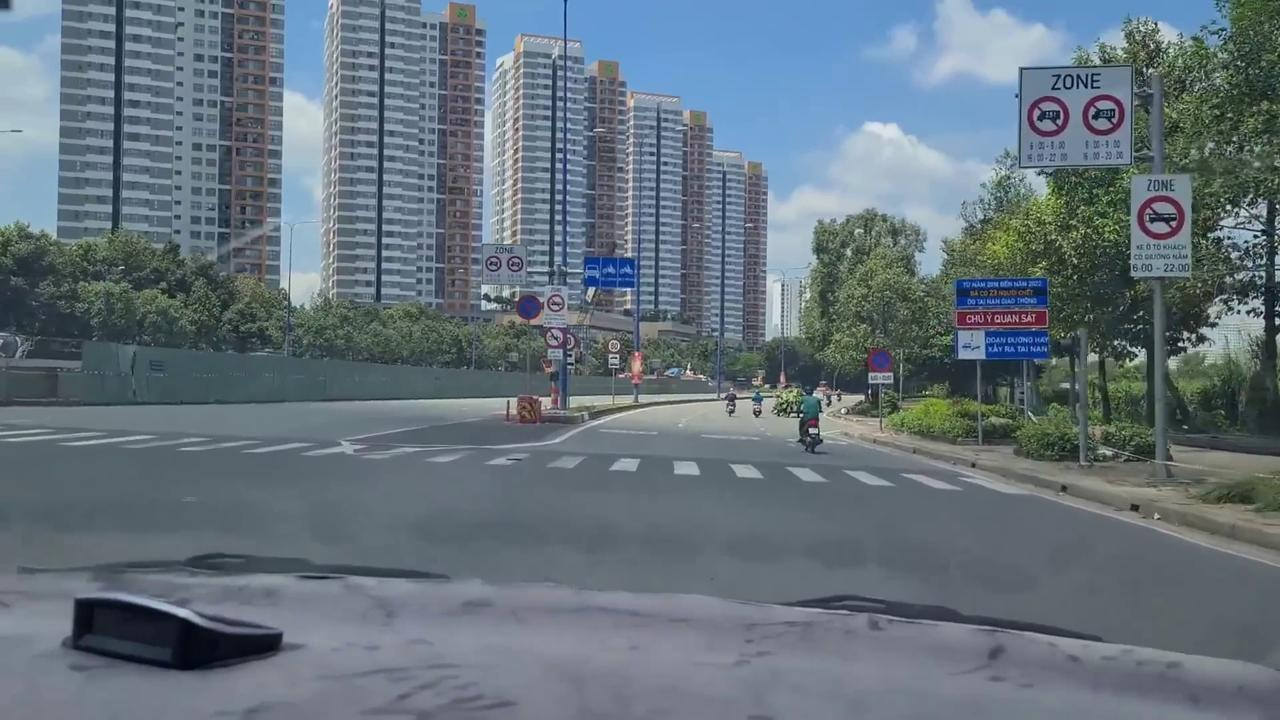Biển phụ: (869, 373, 894, 384), (608, 354, 620, 368)
Cấm cac phương tiện hoạt động trong khung giờ cố định: (1016, 66, 1135, 169), (1130, 172, 1194, 278), (479, 242, 527, 286), (544, 285, 568, 328)
Cấm dừng - Cấm đỗ: (514, 291, 542, 323), (867, 347, 894, 372)
Cấm xe máy: (544, 328, 566, 350)
Giới hạn tốc độ 80Km/h: (607, 337, 622, 353)
Khác: (954, 278, 1050, 360)
Làn đường cho từng xe: (582, 255, 635, 290)
